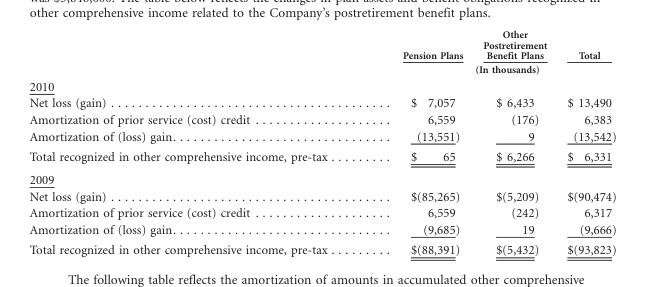table: (28, 29, 615, 256)
table column: (28, 29, 364, 256), (364, 29, 472, 256), (472, 29, 556, 256), (556, 29, 615, 256)
table column header: (28, 29, 615, 77)
table projected row header: (28, 167, 615, 187), (28, 77, 615, 94)
table row: (28, 29, 615, 61), (28, 146, 615, 167), (28, 167, 615, 187), (28, 127, 615, 146), (28, 220, 615, 239), (28, 77, 615, 94), (28, 94, 615, 111), (28, 187, 615, 204), (28, 239, 615, 256), (28, 61, 615, 77), (28, 111, 615, 127), (28, 204, 615, 220)
table spanning cell: (364, 61, 615, 77)
